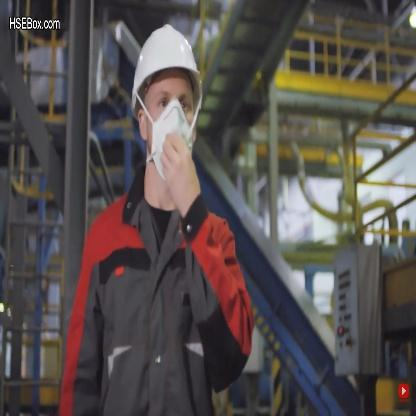helmet: (128, 19, 196, 193)
